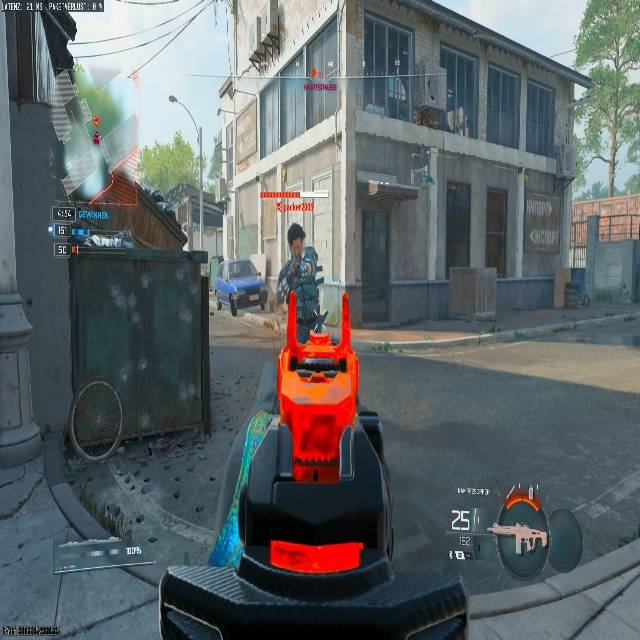head: (287, 223, 305, 253)
player: (278, 224, 324, 339)
